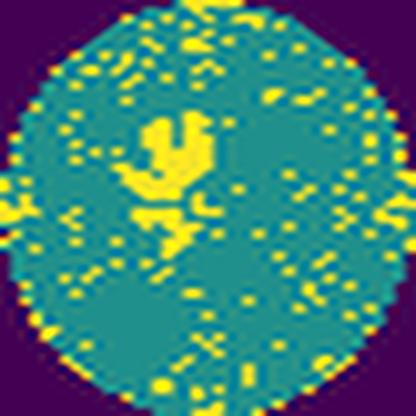Loc: (112, 106, 224, 204), (127, 188, 230, 262)
